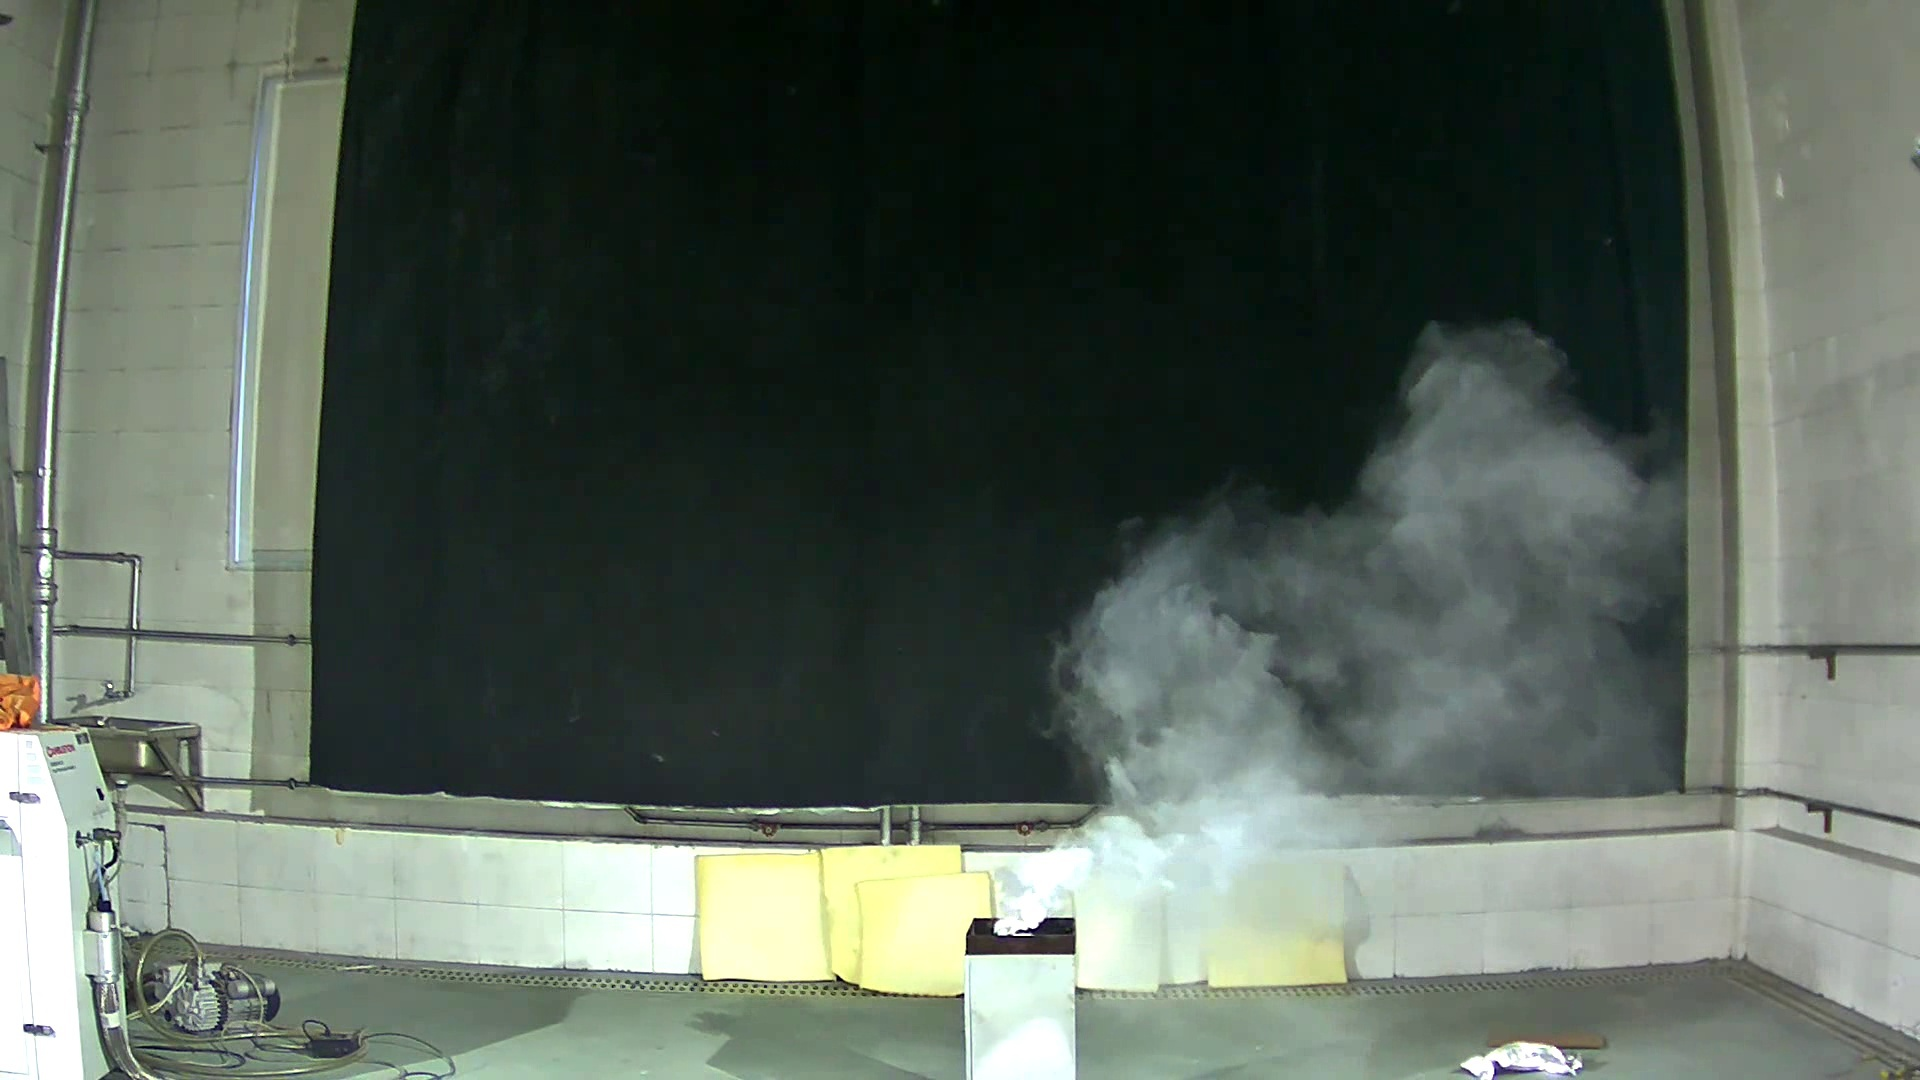smoke: (953, 291, 1663, 943)
